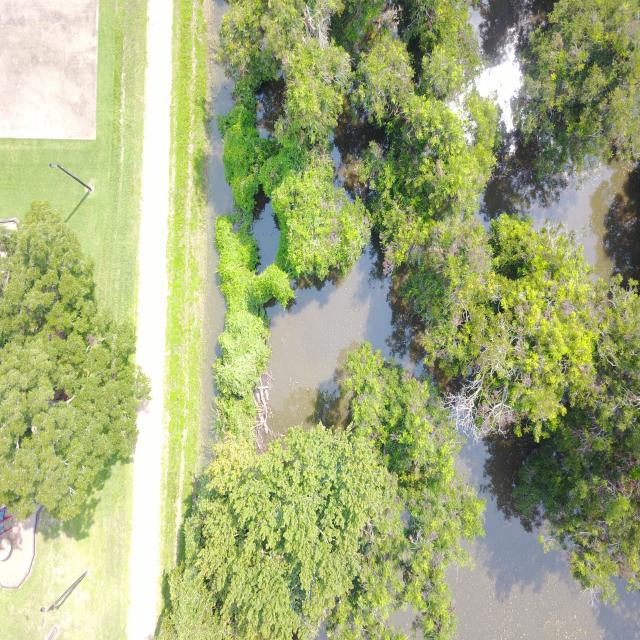fire: (447, 435, 640, 639), (267, 246, 400, 435), (481, 159, 640, 281), (199, 0, 234, 467), (476, 46, 523, 131), (480, 2, 521, 65), (252, 201, 280, 273)
